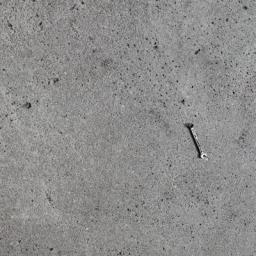FOD: (183, 123, 212, 162)
